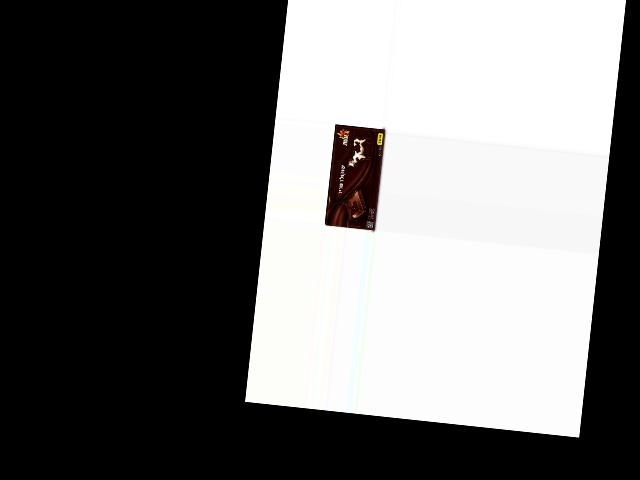chocolate: (324, 121, 386, 229)
